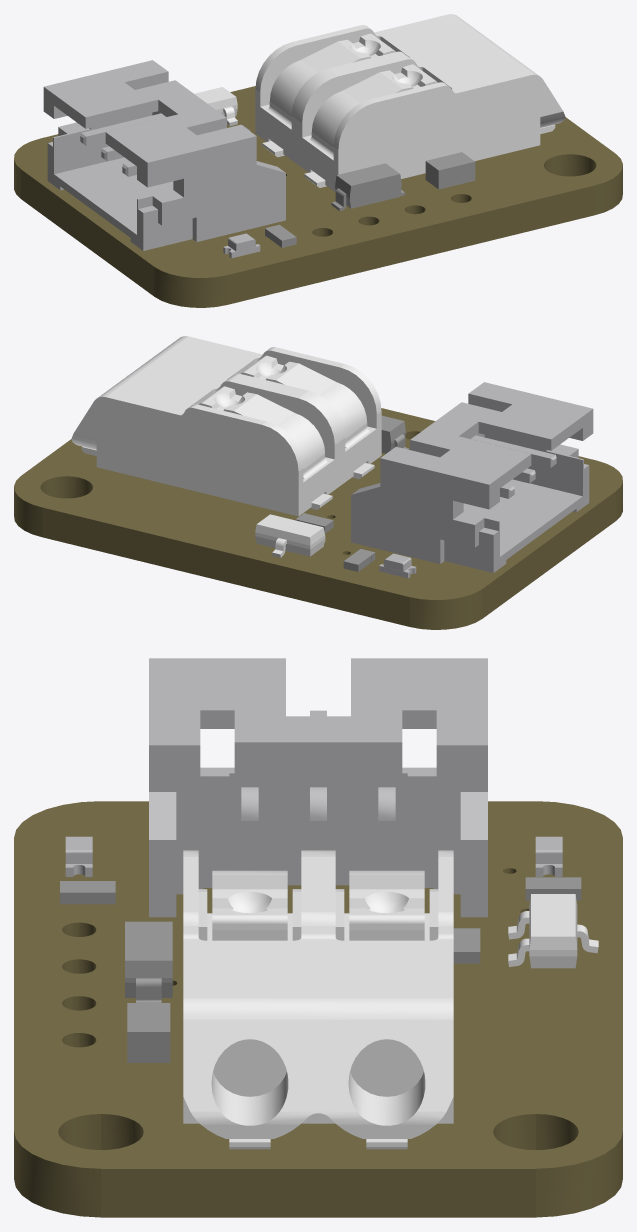
File: ada-5648.glb
3 renders of one model, top to bottom at view 1: azimuth 30°, elevation 25°; view 2: azimuth 150°, elevation 25°; view 3: azimuth 270°, elevation 25°, orthographic. The views are drawn at different scales.
Parts seen in each view (by area): view 1: 0.16666666666666666_0.16666666666666666_0.08333333333333333_, 0.9166666666666666_0.9166666666666666_0.9166666666666666_0.8, 0.5833333333333334_0.5833333333333334_0.5833333333333334_0.8, 0.3333333333333333_0.3333333333333333_0.3333333333333333_0; view 2: 0.16666666666666666_0.16666666666666666_0.08333333333333333_, 0.9166666666666666_0.9166666666666666_0.9166666666666666_0.8, 0.5833333333333334_0.5833333333333334_0.5833333333333334_0.8, 0.3333333333333333_0.3333333333333333_0.3333333333333333_0; view 3: 0.16666666666666666_0.16666666666666666_0.08333333333333333_, 0.9166666666666666_0.9166666666666666_0.9166666666666666_0.8, 0.5833333333333334_0.5833333333333334_0.5833333333333334_0.8, 0.3333333333333333_0.3333333333333333_0.3333333333333333_0.
Part boxes in pixels (x1,y1,x2,y2): 0.16666666666666666_0.16666666666666666_0.08333333333333333_: (14,86,622,307); 0.9166666666666666_0.9166666666666666_0.9166666666666666_0.8: (194,14,565,191); 0.5833333333333334_0.5833333333333334_0.5833333333333334_0.8: (43,60,285,258); 0.3333333333333333_0.3333333333333333_0.3333333333333333_0: (242,125,475,247); 0.16666666666666666_0.16666666666666666_0.08333333333333333_: (14,408,622,629); 0.9166666666666666_0.9166666666666666_0.9166666666666666_0.8: (71,336,381,557); 0.5833333333333334_0.5833333333333334_0.5833333333333334_0.8: (351,382,593,578); 0.3333333333333333_0.3333333333333333_0.3333333333333333_0: (295,415,409,571); 0.16666666666666666_0.16666666666666666_0.08333333333333333_: (14,801,622,1217); 0.9166666666666666_0.9166666666666666_0.9166666666666666_0.8: (183,850,598,1149); 0.5833333333333334_0.5833333333333334_0.5833333333333334_0.8: (65,658,562,917); 0.3333333333333333_0.3333333333333333_0.3333333333333333_0: (60,877,581,1062).
Size of the model in its own units: 2.54 by 0.637 by 1.78.
